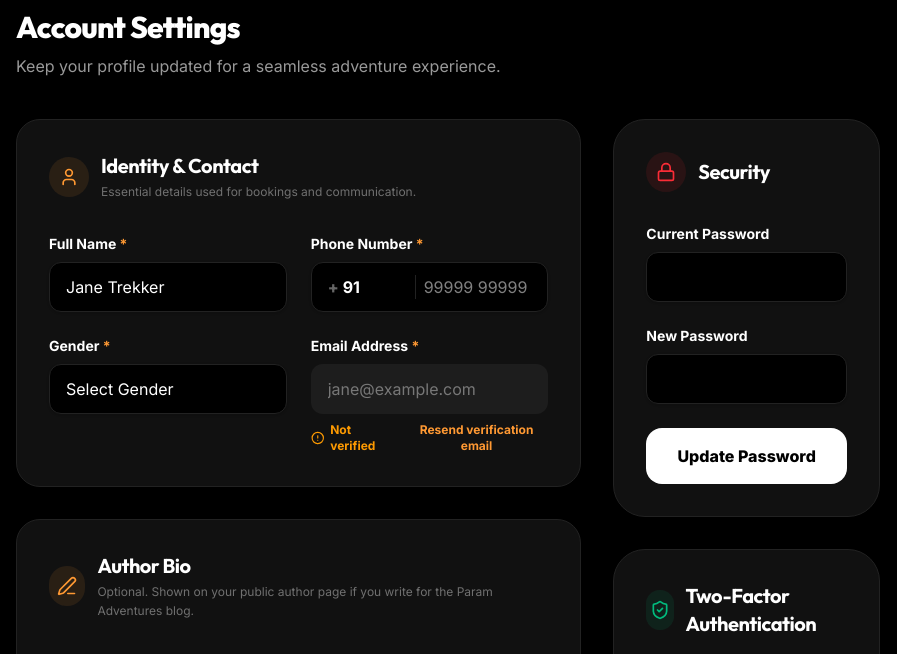
Scenario: app/dashboard/settings/page › shows an error when resending the verification email fails
This screenshot has width=897, height=654.
Click the button "Resend verification email". click: (477, 438)
box: 405,422 -> 548,454
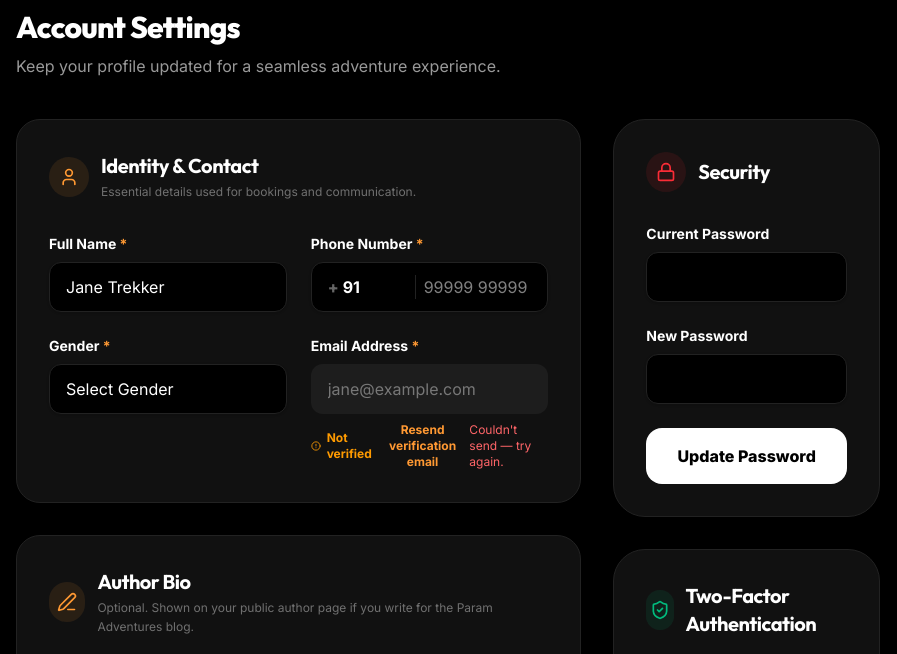
expect the text "Couldn't send — try again." is shown: met, box 469,422 -> 531,468
